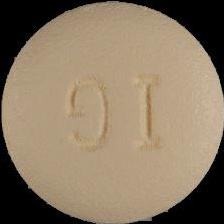68387-559: (0, 0, 224, 224)
